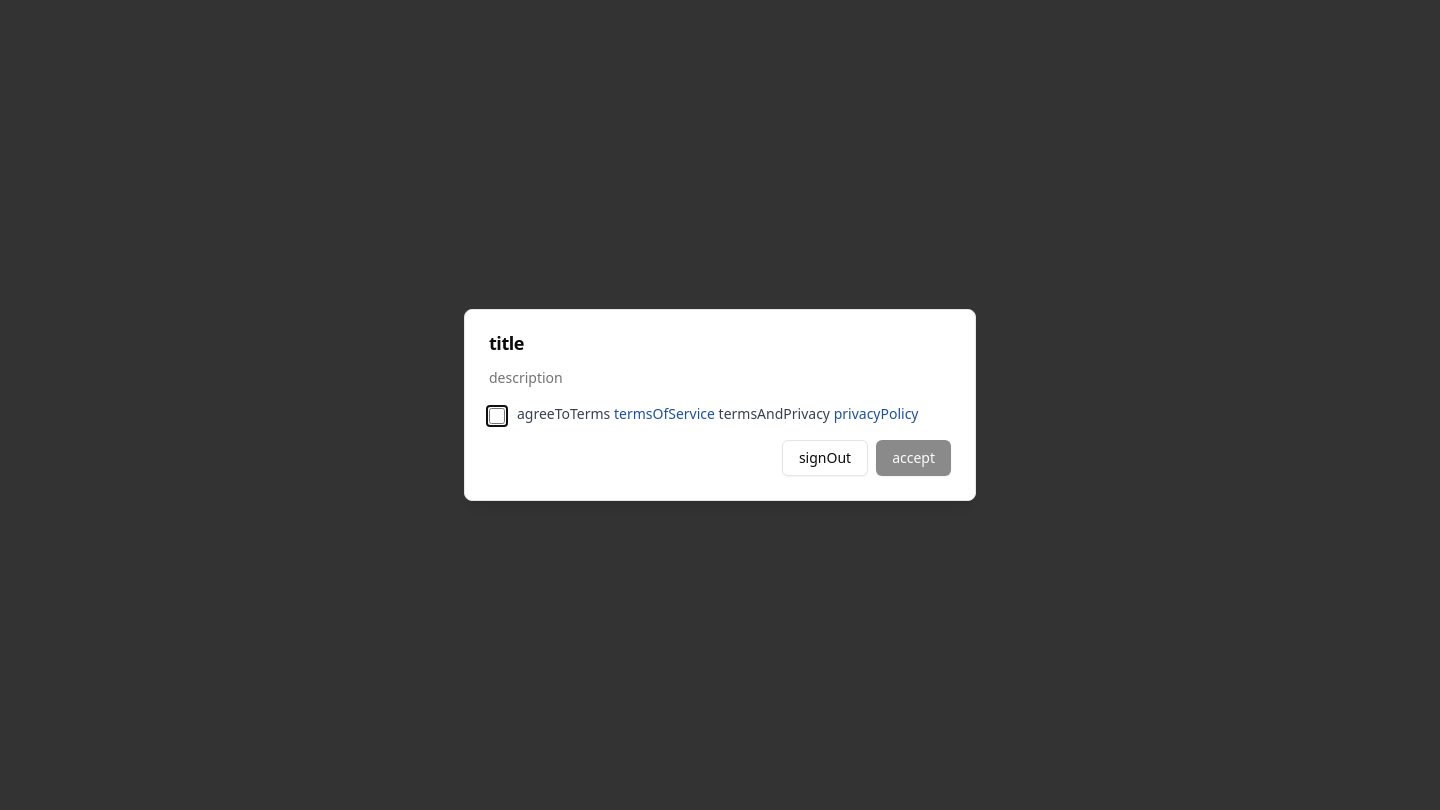
Scenario: TermsReacceptanceDialog › keeps accept disabled until the terms box is ticked
The width and height of the screenshot is (1440, 810).
Expected: the button "accept" is disabled, [876, 440, 951, 476]
Click the checkbox labelled "agreeToTerms termsOfService termsAndPrivacy privacyPolicy": coordinates (497, 416) [489, 408, 505, 424]
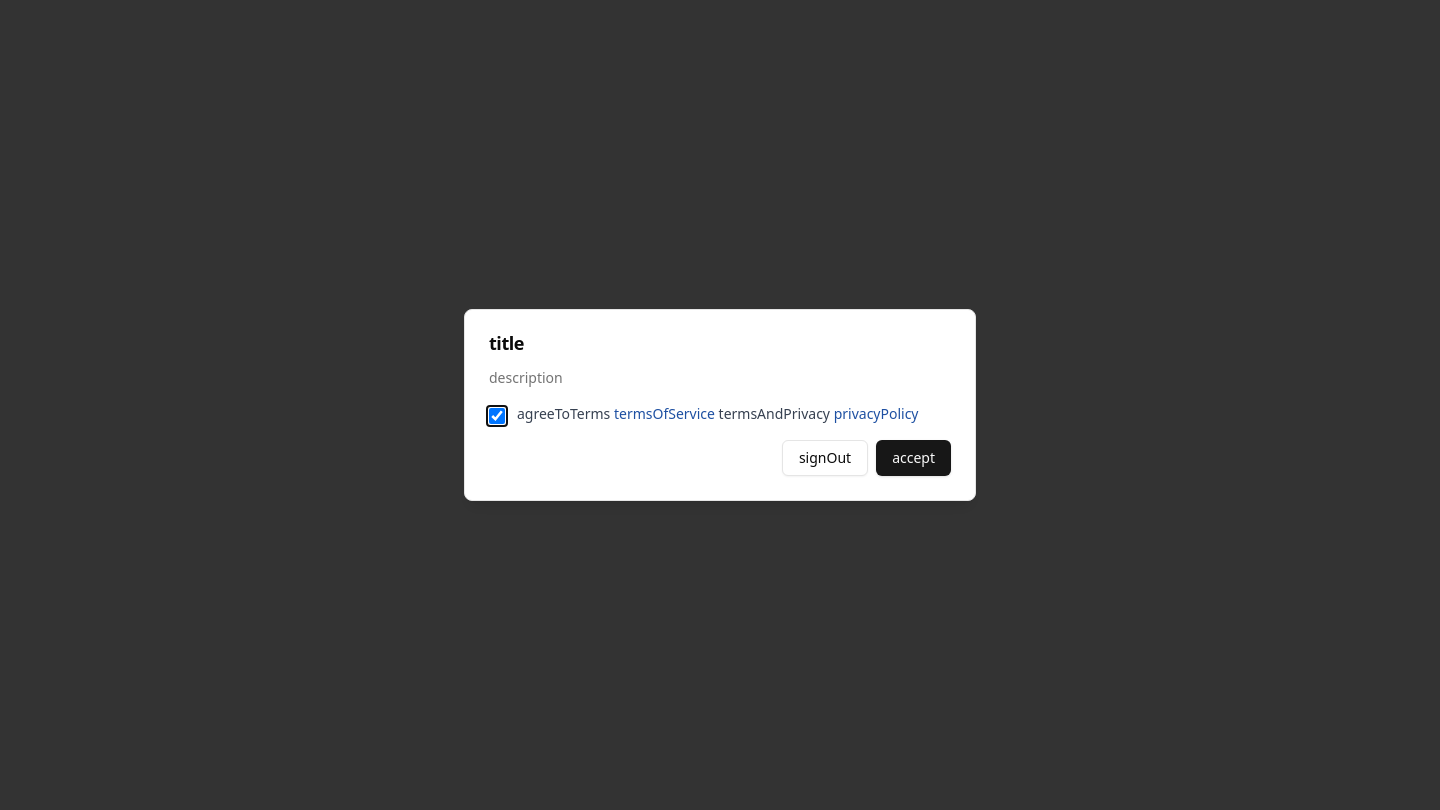
Result: the button "accept" is enabled at [876, 440, 951, 476]
